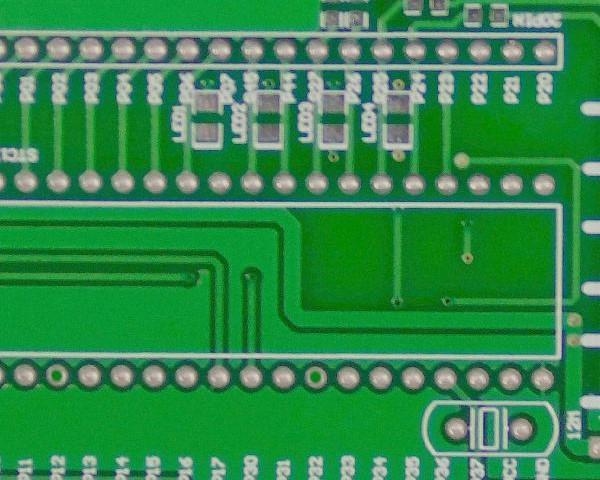missing hole: (44, 359, 76, 392), (302, 363, 330, 391)
